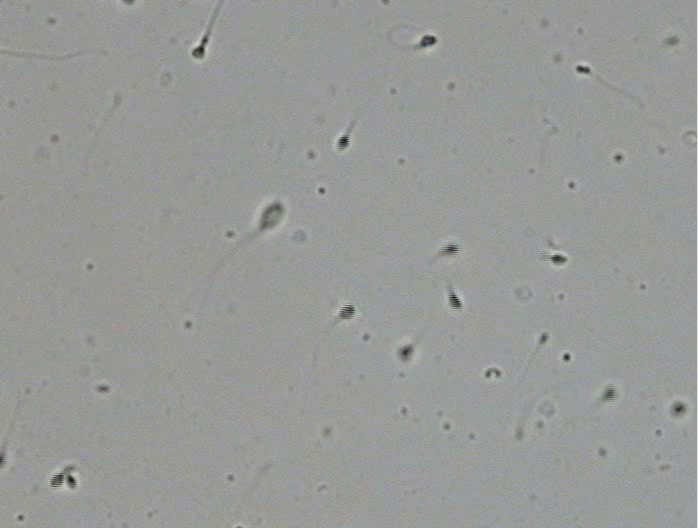S: (260, 201, 285, 230), (338, 303, 356, 320), (440, 243, 460, 256), (49, 473, 64, 489), (398, 345, 413, 361), (448, 292, 462, 309), (336, 135, 350, 152), (420, 35, 437, 47), (191, 45, 205, 59), (672, 402, 686, 416), (603, 386, 616, 401), (66, 475, 77, 491), (551, 254, 567, 265), (575, 64, 591, 74), (1, 450, 5, 468)
